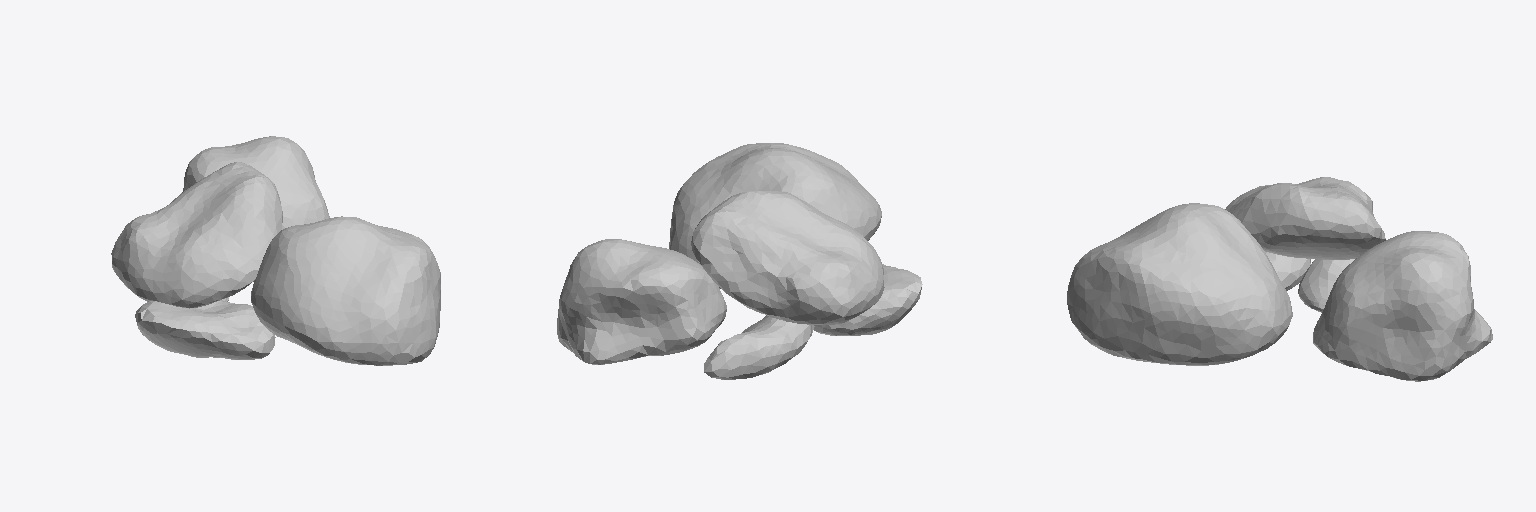
Rendered from rock_d.obj.
3 renders of one model, left to right at view 1: azimuth 30°, elevation 25°; view 2: azimuth 150°, elevation 25°; view 3: azimuth 270°, elevation 25°, orthographic.
Visible parts, largest first — view 1: Icosphere.014_Icosphere.019; view 2: Icosphere.014_Icosphere.019; view 3: Icosphere.014_Icosphere.019.
Part boxes in pixels (bbox=[...]): Icosphere.014_Icosphere.019: bbox=[111, 136, 440, 365]; Icosphere.014_Icosphere.019: bbox=[557, 143, 922, 379]; Icosphere.014_Icosphere.019: bbox=[1067, 177, 1492, 381].
Bounding box in the file's own units: 1.32 × 0.6605 × 1.84.